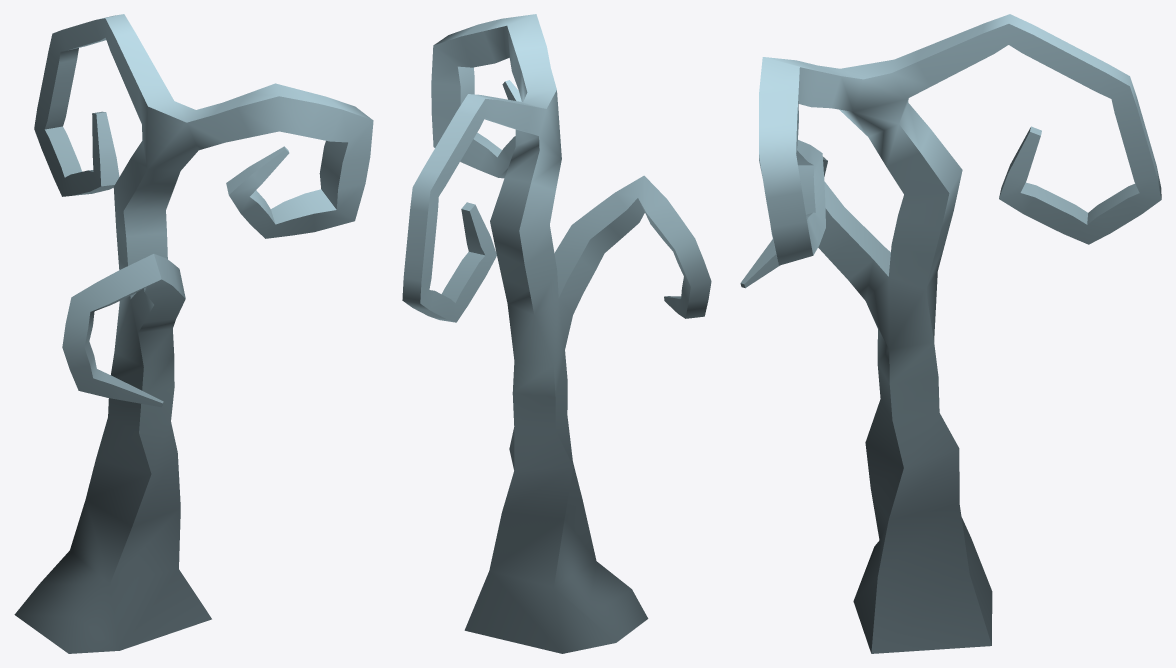
The model's file is Tree02.fbx.
The picture shows the model from 3 angles, left to right: view 1: azimuth 30°, elevation 25°; view 2: azimuth 150°, elevation 25°; view 3: azimuth 270°, elevation 25°; orthographic projection. The views are drawn at different scales.
Visible parts, largest first — view 1: TreeMesh_02; view 2: TreeMesh_02; view 3: TreeMesh_02.
Part boxes in pixels (x1,y1,x2,y2): TreeMesh_02: (14, 14, 373, 653); TreeMesh_02: (402, 14, 711, 653); TreeMesh_02: (740, 14, 1161, 653).
Bounding box in the file's own units: 790 × 1465 × 905.
